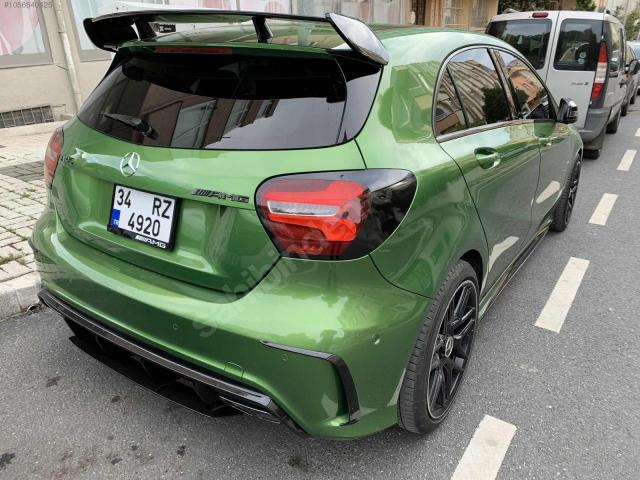plaka: (110, 185, 178, 250)
